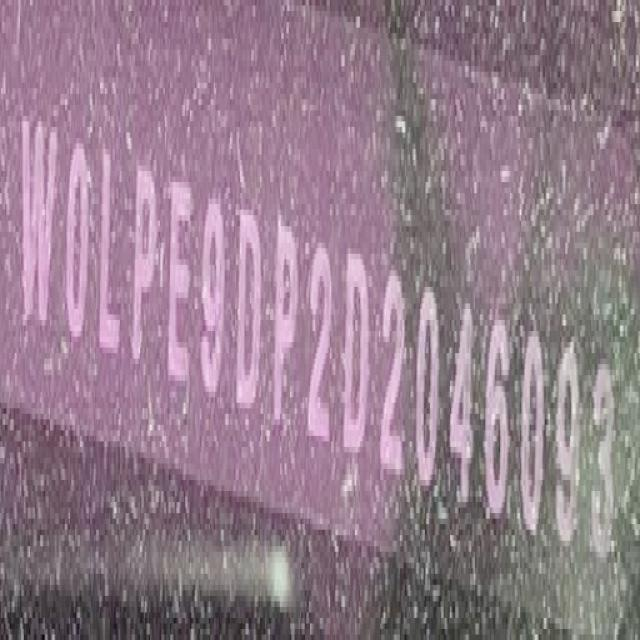0: (66, 124, 94, 363), (415, 267, 443, 504), (519, 315, 547, 547)
2: (377, 268, 406, 480), (307, 227, 333, 459)
3: (592, 350, 614, 574)
4: (448, 304, 476, 515)
6: (484, 300, 513, 535)
9: (550, 335, 581, 550), (198, 192, 226, 413)
D: (234, 194, 261, 421), (342, 251, 370, 458)
E: (165, 172, 192, 392)
L: (96, 133, 128, 360)
P: (271, 206, 300, 442), (131, 170, 161, 380)
W: (18, 96, 54, 340)
